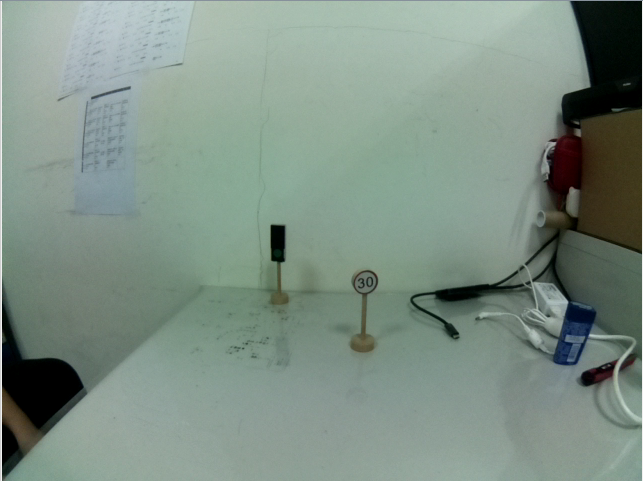Green: (267, 221, 291, 270)
Speed30: (349, 267, 380, 298)
